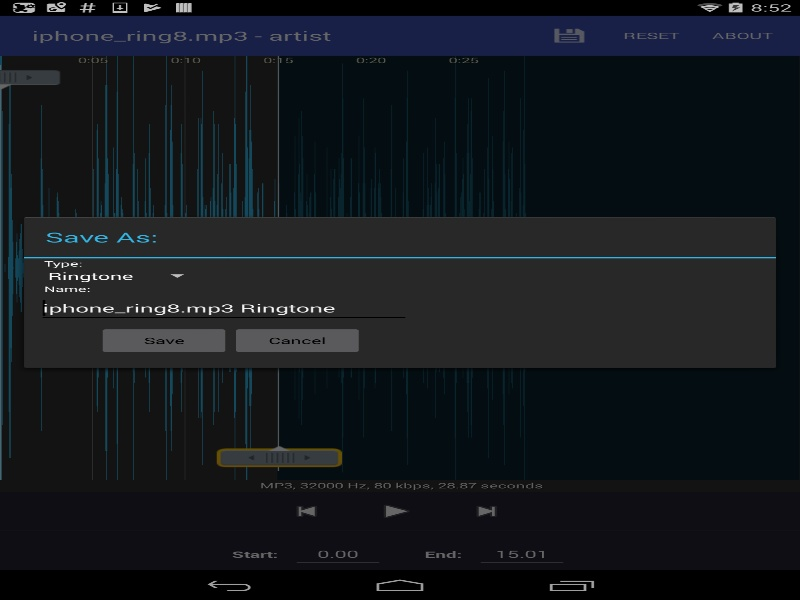Button: (230, 325, 364, 355), (97, 325, 230, 355)
Input: (37, 294, 410, 322)
